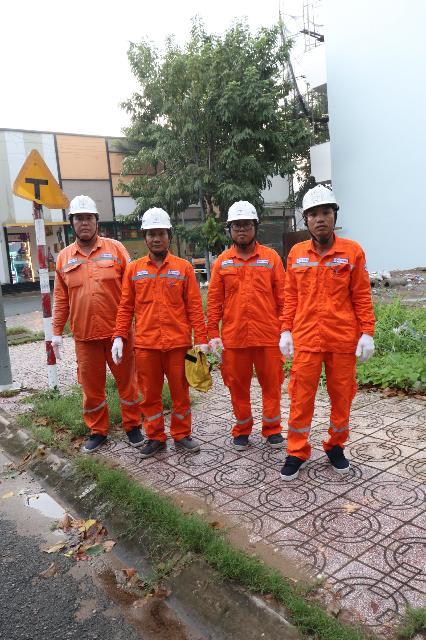gloves: (354, 331, 379, 366), (100, 334, 128, 362), (49, 334, 71, 366), (278, 325, 295, 361), (210, 333, 228, 363), (194, 341, 210, 360)
helmet: (292, 175, 341, 215), (56, 189, 102, 221), (137, 196, 171, 237), (217, 197, 260, 228)
shoes: (73, 423, 115, 462), (324, 437, 358, 476), (277, 448, 306, 483), (134, 433, 166, 459), (178, 428, 203, 455), (263, 428, 287, 455), (231, 429, 252, 458), (120, 423, 142, 448)
